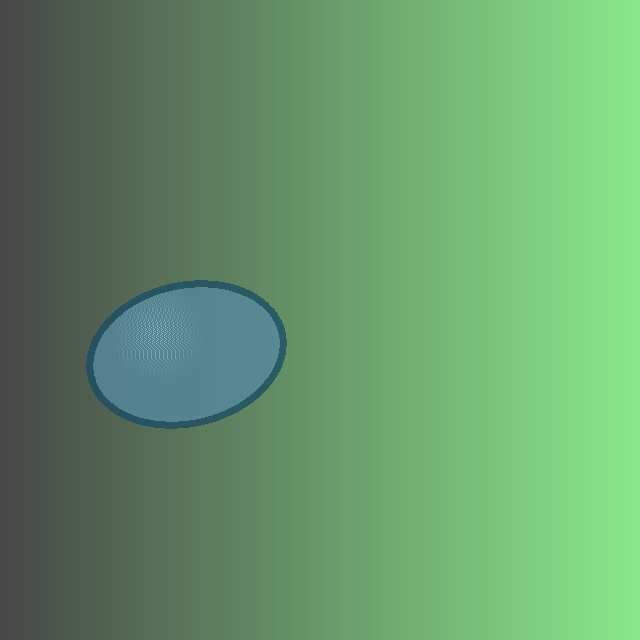lens: (90, 283, 282, 425)
